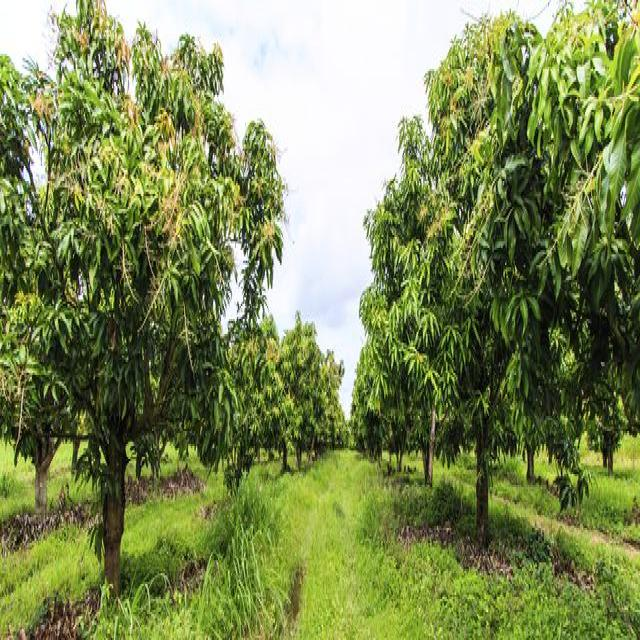Mango-Tree: (0, 2, 275, 550), (344, 13, 580, 524)
